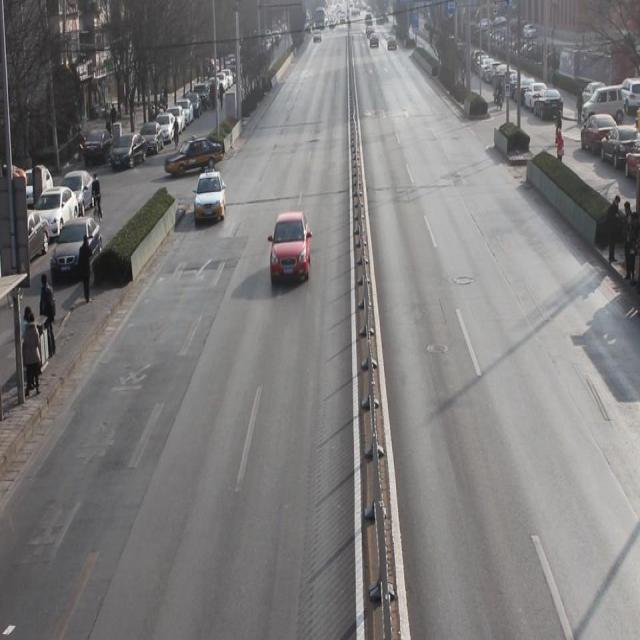car: (268, 208, 313, 290), (194, 167, 227, 230)
